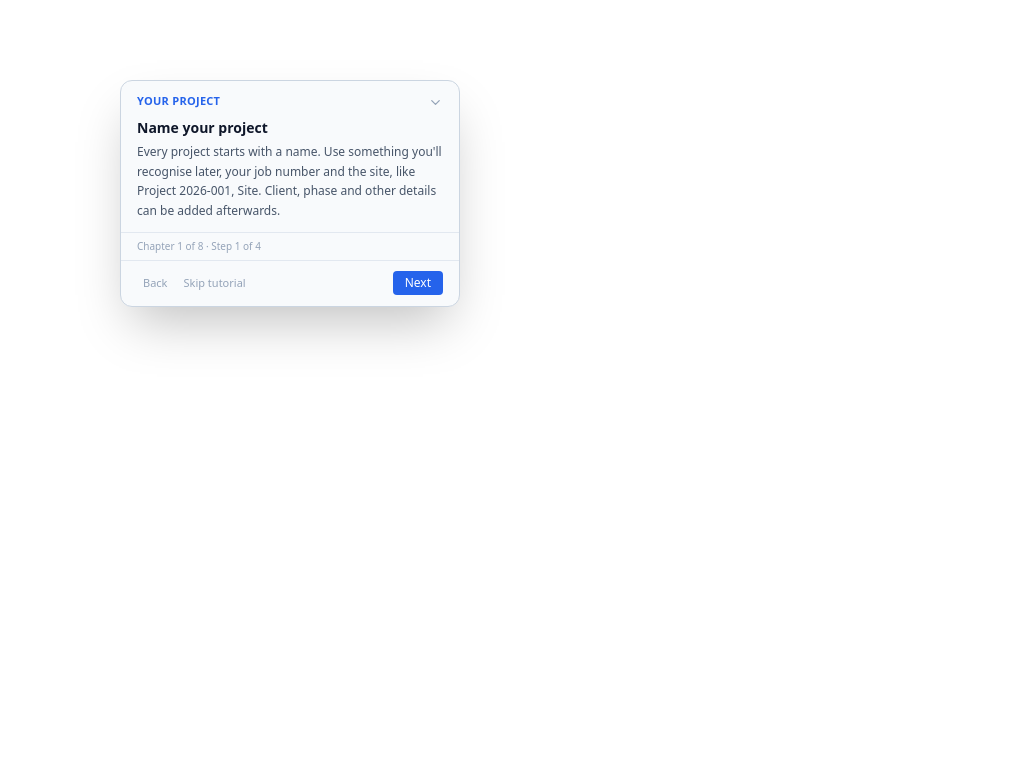
coach card — fold › the fold and unfold controls carry accessible names
The width and height of the screenshot is (1024, 768).
Click the button with test id "tutorial-fold".
click(436, 102)  # box [424,91,447,114]
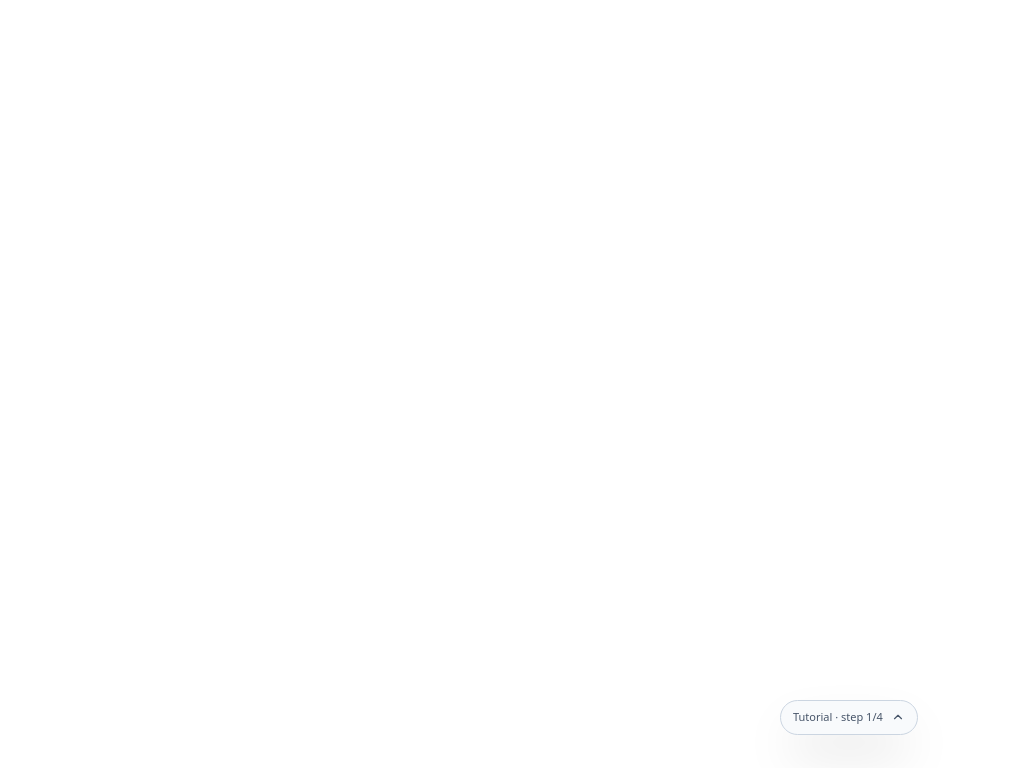
Result: the button with aria-label "Unfold tutorial card" is shown at [780,700,918,734]
